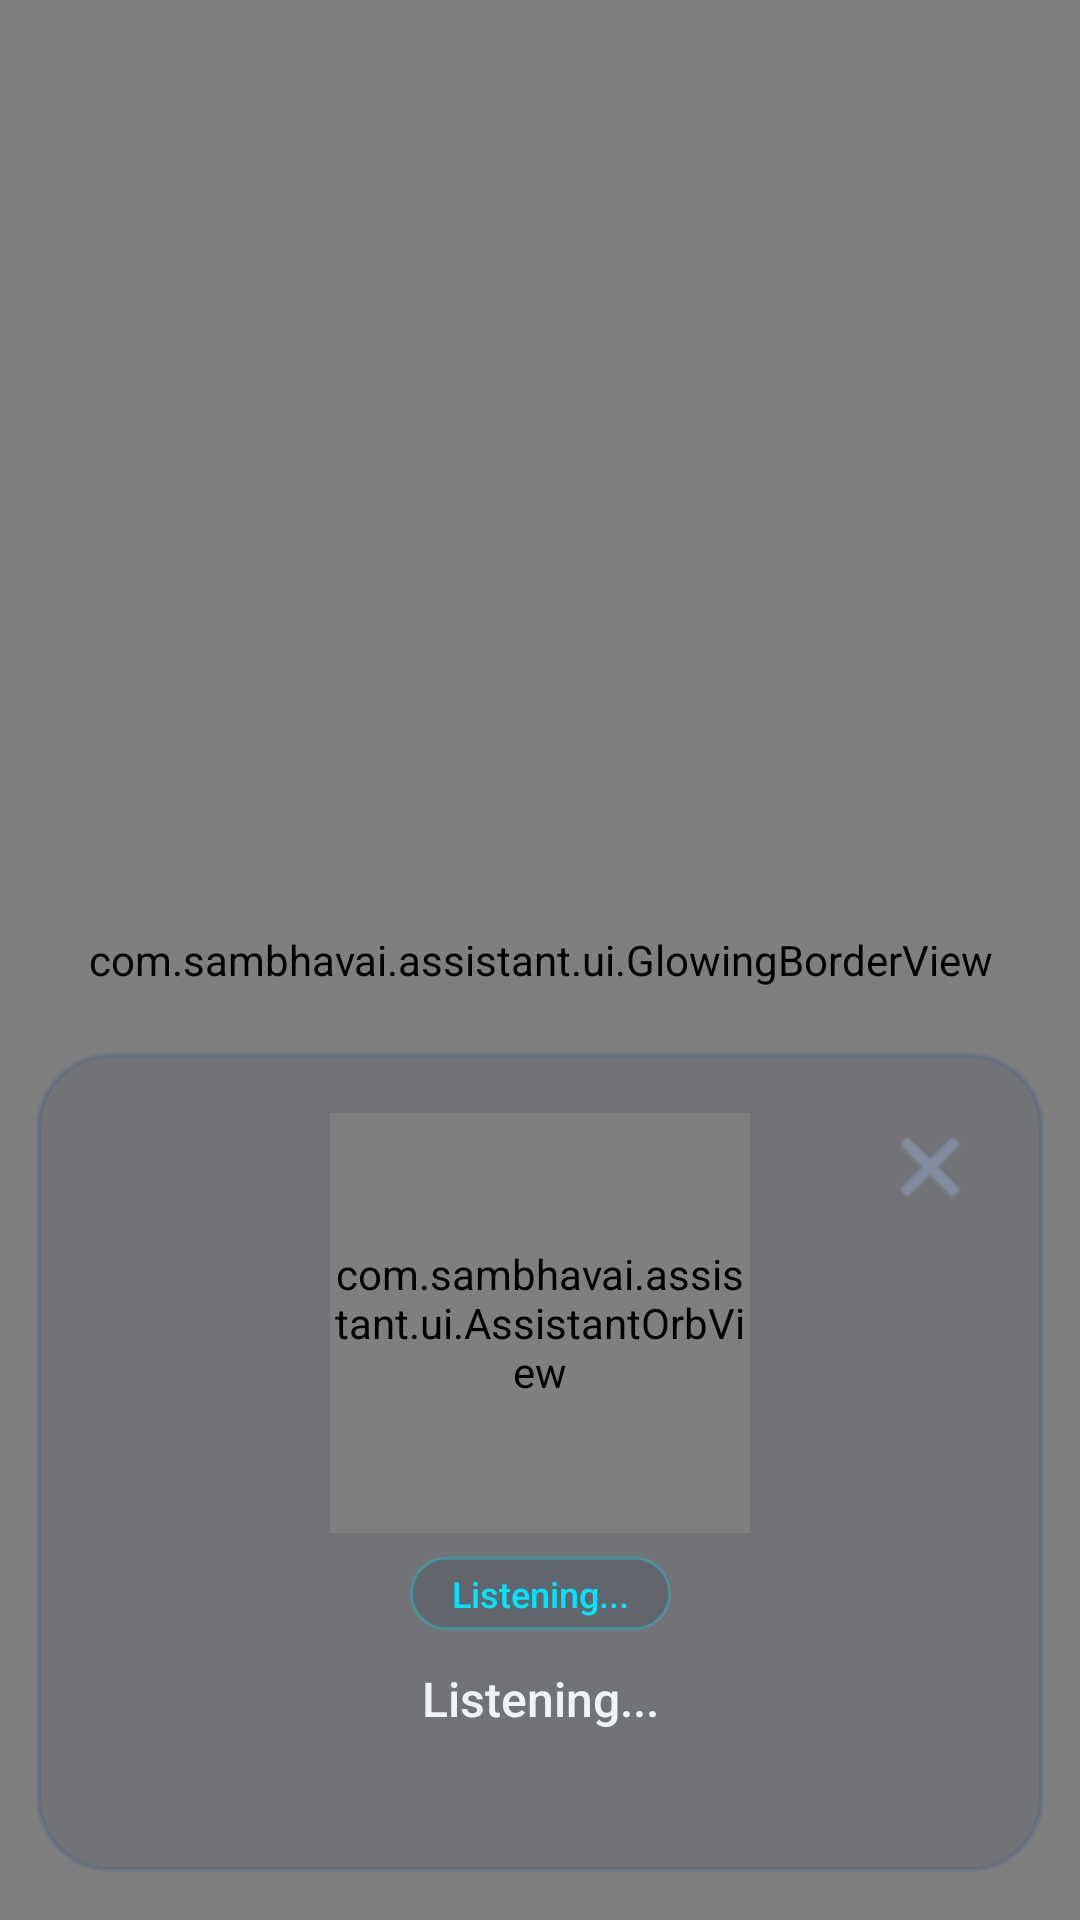

Where icons sit on this 1080 x 1920 app screen, as (x1, y1, x2, y2):
Close: (902, 1139, 958, 1195)
